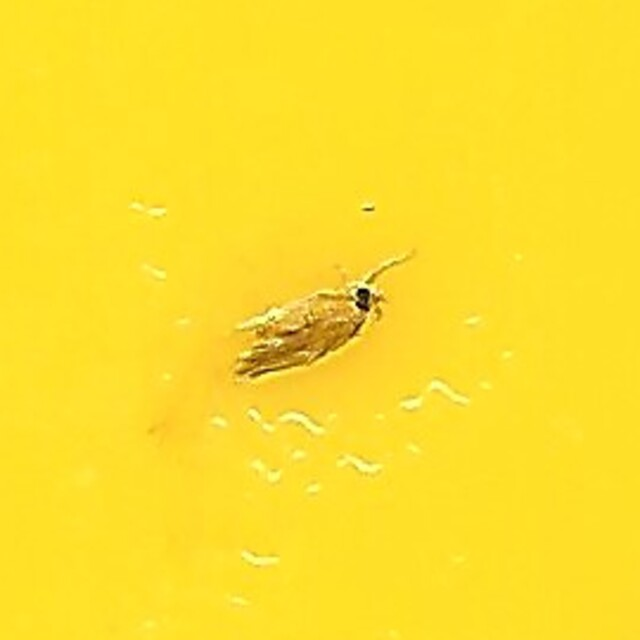Trichoptera: (237, 251, 403, 389)
